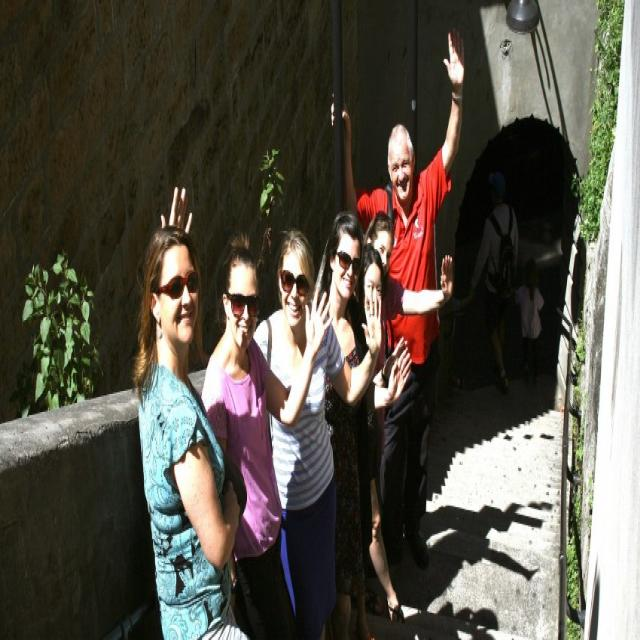body: (329, 23, 466, 578), (195, 216, 334, 638), (129, 182, 252, 640), (248, 226, 384, 640), (350, 207, 456, 622), (316, 208, 413, 640), (384, 483, 554, 639), (348, 242, 406, 626), (464, 166, 522, 397), (513, 255, 546, 383)
